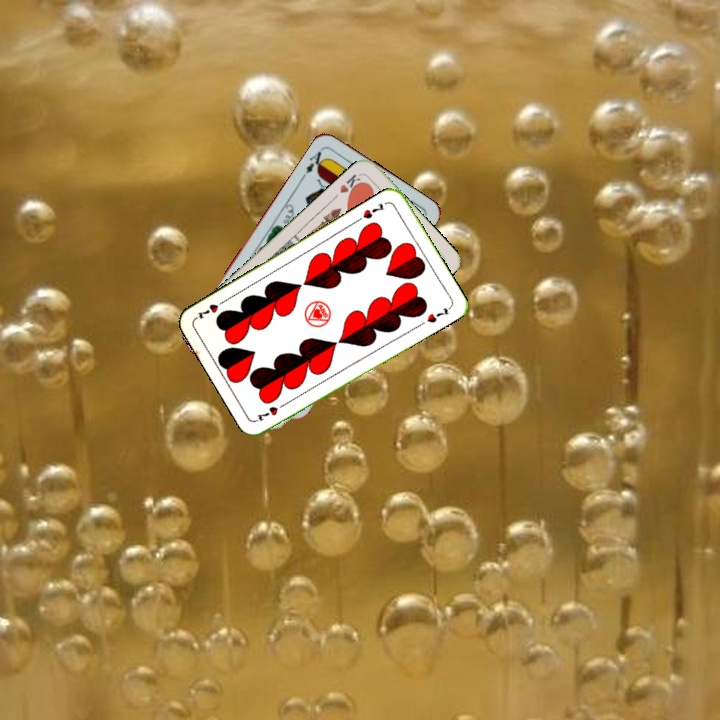EA: (298, 147, 328, 180)
H7: (253, 398, 290, 424), (359, 199, 387, 221)
HK: (336, 170, 366, 199)
